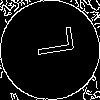L: (25, 25, 74, 60)
